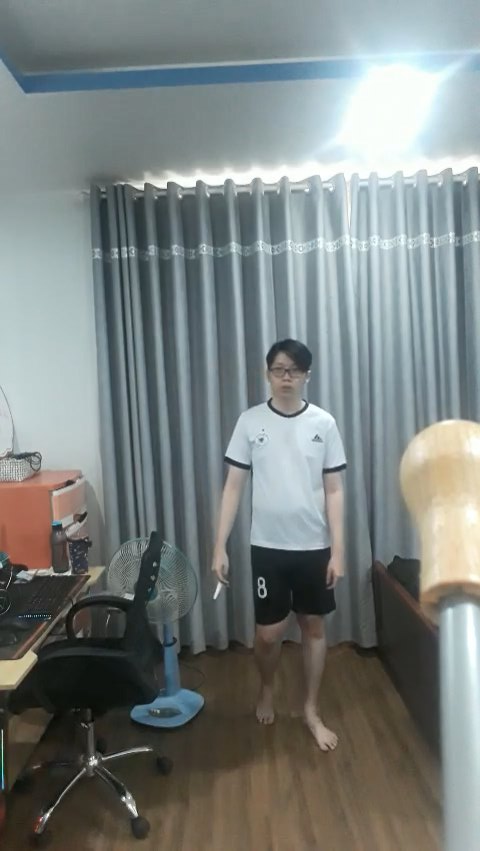cigarette: (210, 578, 224, 599)
person: (215, 334, 354, 767)
